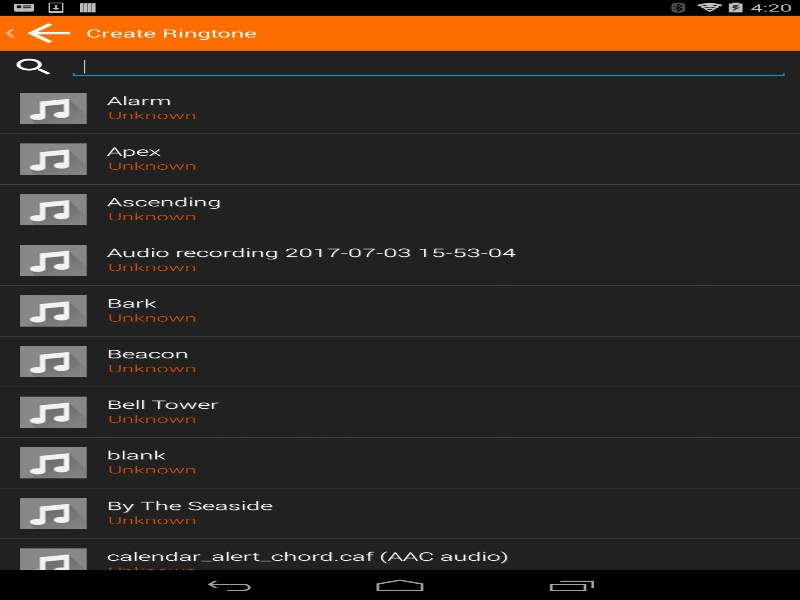Input: (68, 55, 789, 78)
